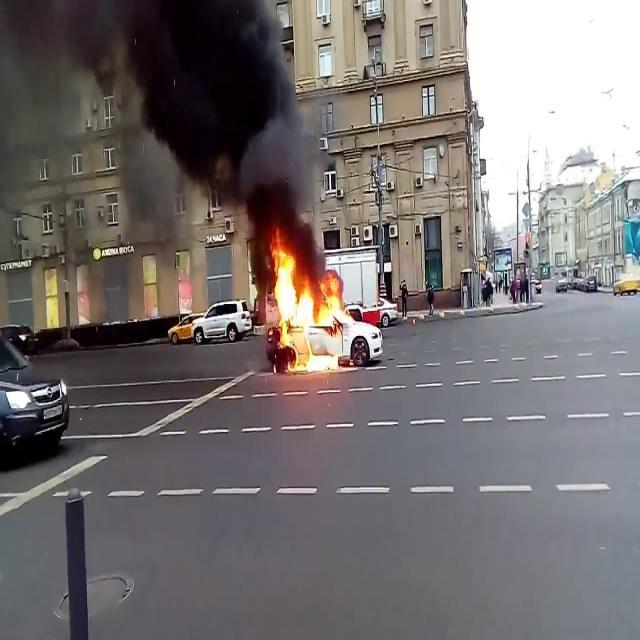Fire: (266, 242, 350, 370)
Smoke: (1, 0, 322, 287)
